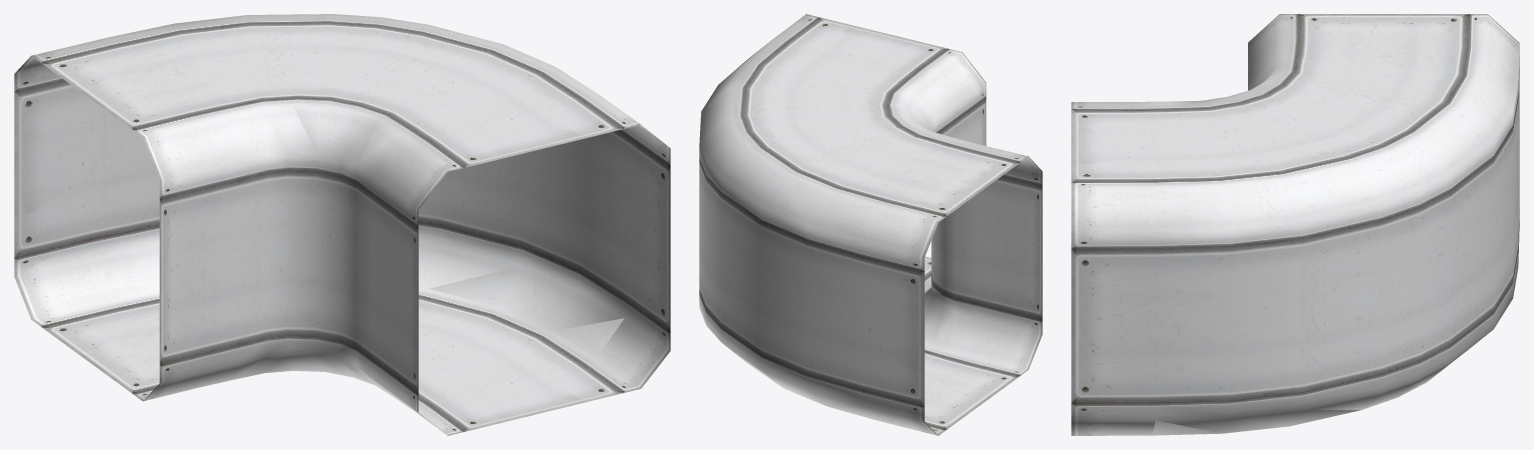
File: CeilingBrace_WindowCurvecapped.FBX
3 views of the same model, side by side, from view 1: azimuth 30°, elevation 25°; view 2: azimuth 150°, elevation 25°; view 3: azimuth 270°, elevation 25° (orthographic). The views are drawn at different scales.
Parts seen in each view (by area): view 1: CeilingBrace_WindowCurvecapped; view 2: CeilingBrace_WindowCurvecapped; view 3: CeilingBrace_WindowCurvecapped.
Part boxes in pixels (box(x1,y1,x2,y2)): CeilingBrace_WindowCurvecapped: box(14, 14, 670, 435); CeilingBrace_WindowCurvecapped: box(699, 14, 1042, 435); CeilingBrace_WindowCurvecapped: box(1071, 14, 1519, 435).
Bounding box in the file's own units: 2.15 × 1.3 × 2.15.
